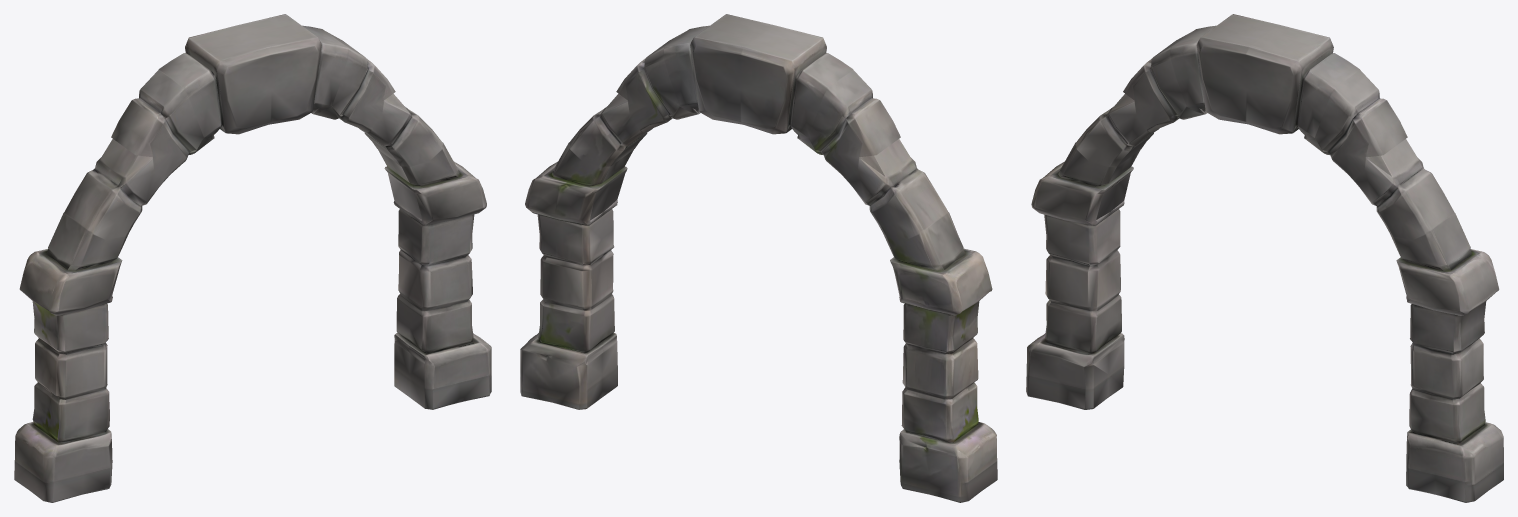
The model's file is cavern_arch.glb.
3 views of the same model, side by side, from view 1: azimuth 30°, elevation 25°; view 2: azimuth 150°, elevation 25°; view 3: azimuth 330°, elevation 25° (orthographic).
Visible parts, largest first — view 1: tripo_node_1eeff3d7-4c82-42c6-b683-aa65f217889a; view 2: tripo_node_1eeff3d7-4c82-42c6-b683-aa65f217889a; view 3: tripo_node_1eeff3d7-4c82-42c6-b683-aa65f217889a.
Part boxes in pixels (left/top/right/bottom): tripo_node_1eeff3d7-4c82-42c6-b683-aa65f217889a: left=14, top=14, right=491, bottom=502; tripo_node_1eeff3d7-4c82-42c6-b683-aa65f217889a: left=520, top=14, right=997, bottom=502; tripo_node_1eeff3d7-4c82-42c6-b683-aa65f217889a: left=1026, top=14, right=1503, bottom=502.
Bounding box in the file's own units: 91.04 × 77.62 × 13.
Materials: 1 (1 with a texture image).
